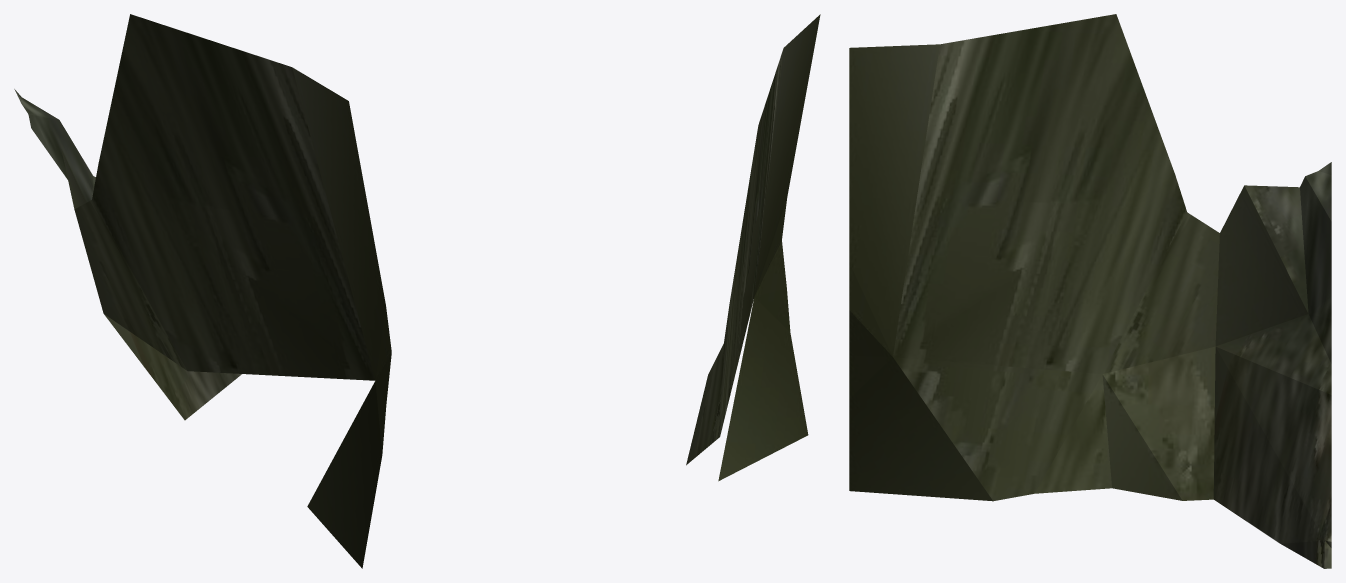
3 views of the same model, side by side, from view 1: azimuth 30°, elevation 25°; view 2: azimuth 150°, elevation 25°; view 3: azimuth 270°, elevation 25° (orthographic). The views are drawn at different scales.
Size of the model in its own units: 1.71 by 2.95 by 2.95.
2 materials, 2 textured.
